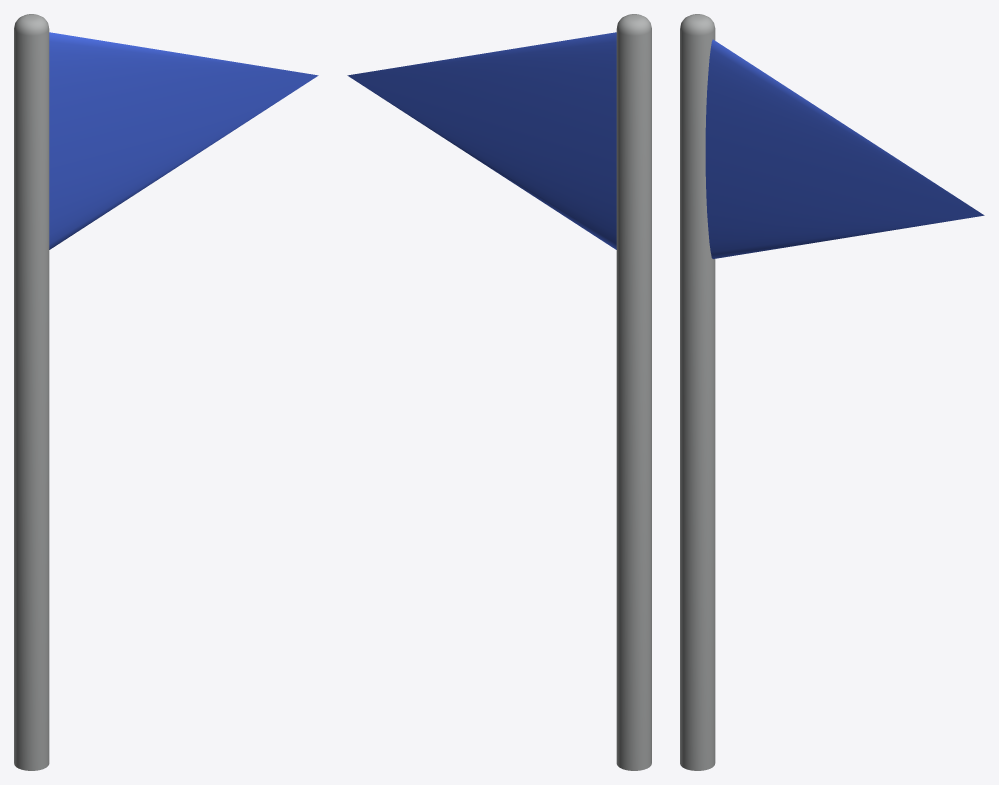
The model's file is Flag.fbx.
3 views of the same model, side by side, from view 1: azimuth 30°, elevation 25°; view 2: azimuth 150°, elevation 25°; view 3: azimuth 330°, elevation 25° (orthographic).
Visible parts, largest first — view 1: Cone; view 2: Cone; view 3: Cone.
Boxes of the visible parts, x1,y1,x2,y2 form: Cone: [14, 14, 318, 770]; Cone: [347, 14, 651, 770]; Cone: [680, 14, 984, 770].
Bounding box in the file's own units: 2.19 × 5.17 × 0.2209.
